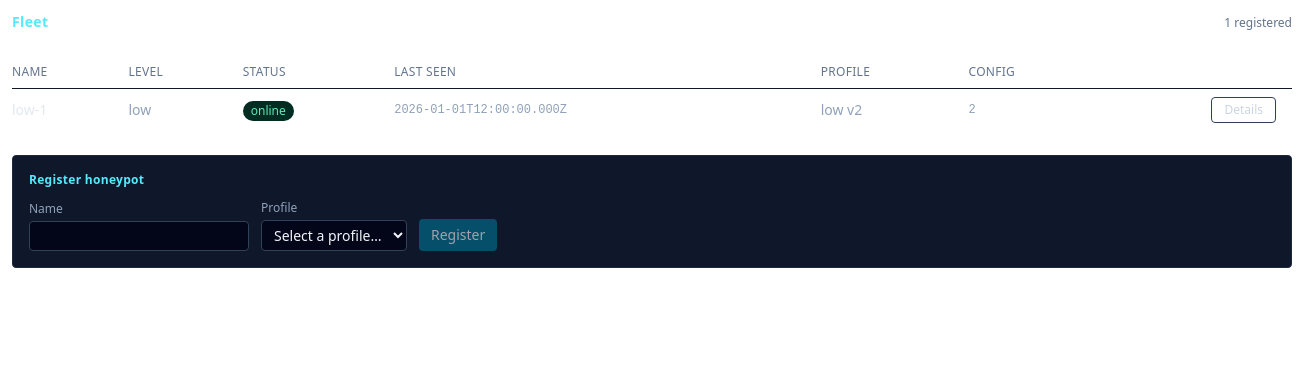
Scenario: reveals the agent token exactly once after an admin registers
The width and height of the screenshot is (1304, 377).
Type "hp2" into the field labelled "Name".
click(139, 236); type("hp2")  # box [29,221,249,251]
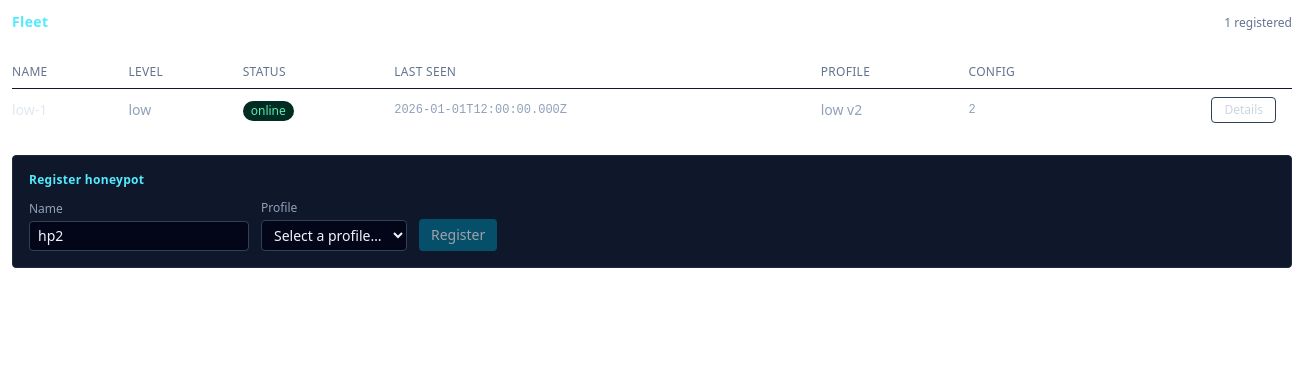
Select "low v2" in the dropdown labelled "Profile" at (334, 236), box [261,220,407,251]
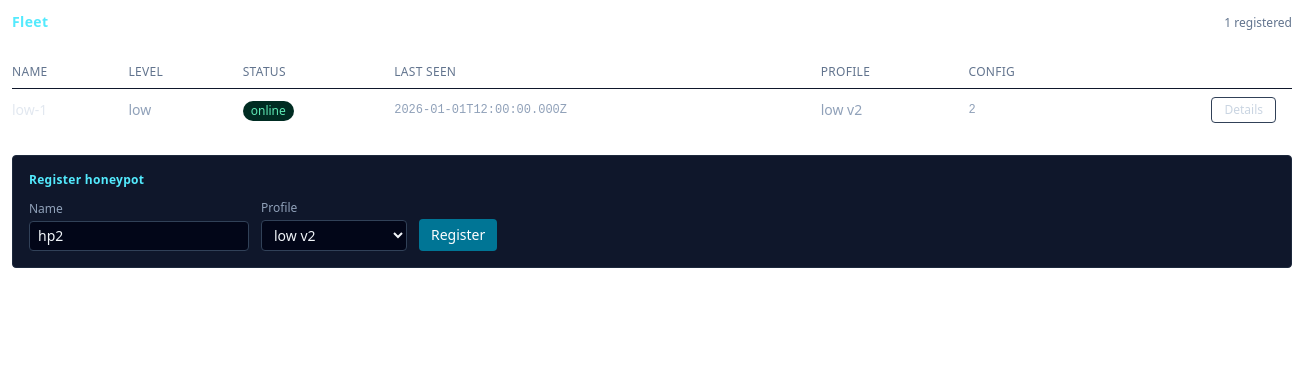
Click the button "Register".
click(458, 235)  # box [419,219,497,251]
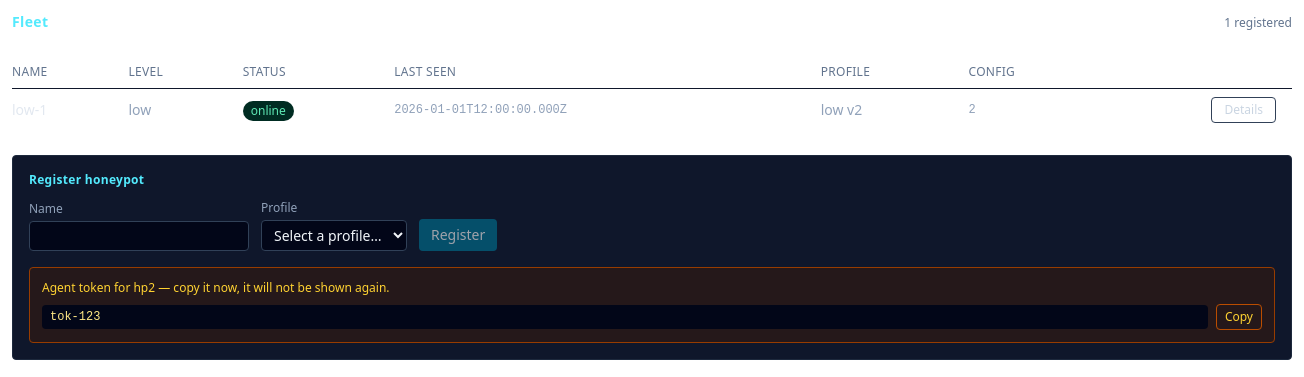
Result: the text "tok-123" is shown at [42,305,1208,329]
Result: the text "will not be shown again" is shown at [155,279,390,296]
